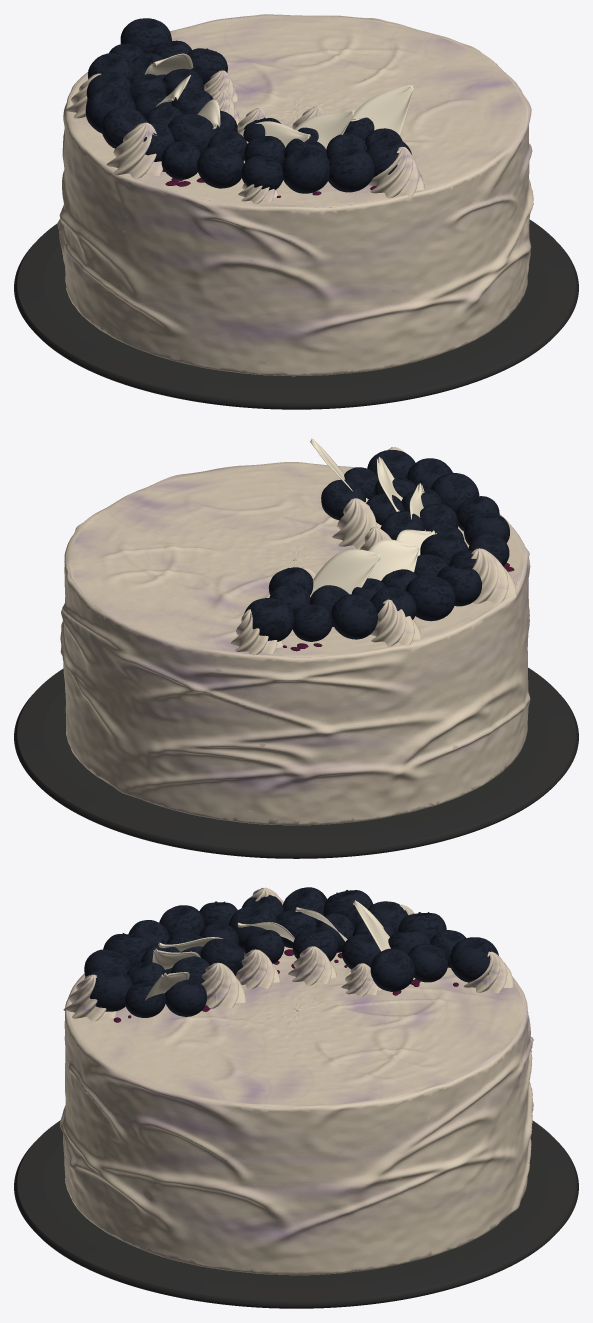
The model's file is blueberry.glb.
The picture shows the model from 3 angles, top to bottom: view 1: azimuth 30°, elevation 25°; view 2: azimuth 150°, elevation 25°; view 3: azimuth 270°, elevation 25°; orthographic projection.
Parts seen in each view (by area): view 1: buttercream, charcoal_ceramic.001, blueberry_bloom, cream_petals, ivory_chocolate, blueberry_calyx; view 2: buttercream, charcoal_ceramic.001, blueberry_bloom, cream_petals, ivory_chocolate, blueberry_calyx; view 3: buttercream, charcoal_ceramic.001, blueberry_bloom, cream_petals, ivory_chocolate, blueberry_calyx.
Boxes of the visible parts, box(x1,y1,x2,y2) form: buttercream: box(57, 14, 533, 376); charcoal_ceramic.001: box(14, 219, 578, 409); blueberry_bloom: box(85, 18, 411, 193); cream_petals: box(66, 70, 424, 204); ivory_chocolate: box(144, 53, 413, 163); blueberry_calyx: box(99, 18, 395, 161); buttercream: box(60, 462, 530, 825); charcoal_ceramic.001: box(14, 667, 578, 858); blueberry_bloom: box(244, 450, 509, 641); cream_petals: box(231, 447, 516, 655); ivory_chocolate: box(310, 438, 436, 597); blueberry_calyx: box(260, 450, 500, 612); buttercream: box(60, 946, 533, 1275); charcoal_ceramic.001: box(14, 1120, 578, 1308); blueberry_bloom: box(84, 887, 498, 1017); cream_petals: box(63, 887, 513, 1021); ivory_chocolate: box(145, 900, 415, 1000); blueberry_calyx: box(100, 889, 482, 986).
Bounding box in the file's own units: 3.42 × 1.65 × 3.42.
7 materials, 3 textured.
